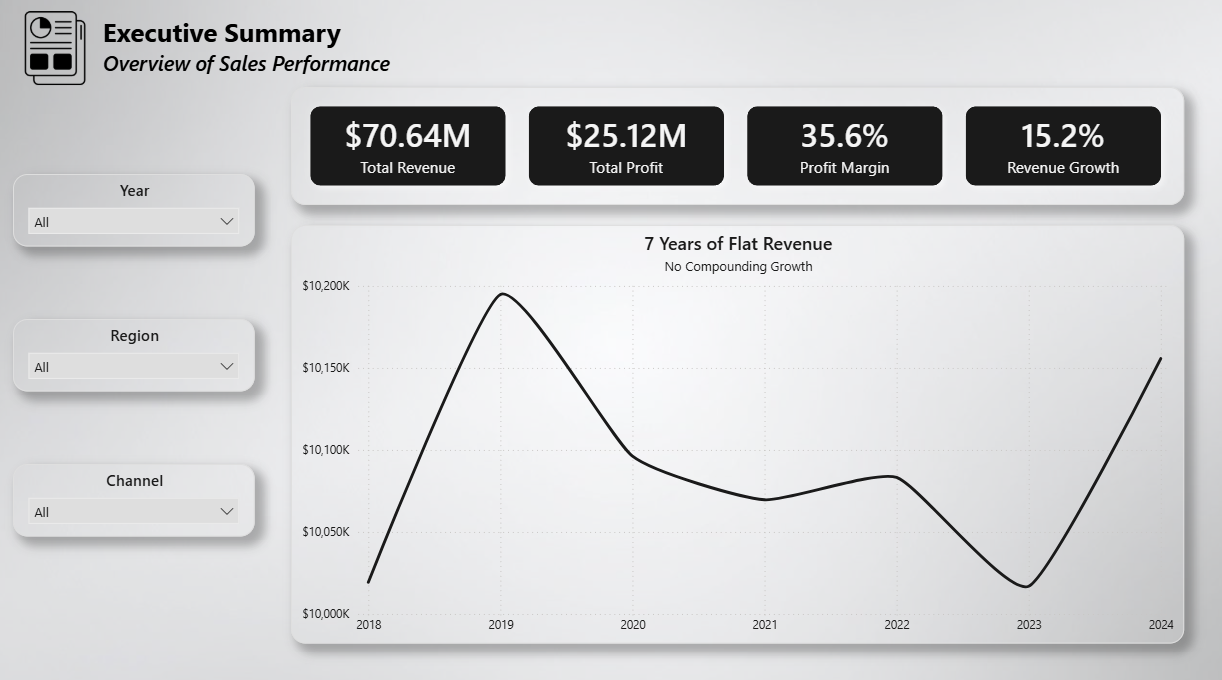

The page's visual inventory and layout, read from the dashboard file:
{"tool":"powerbi","page":{"name":"Executive Summary","canvas":[1280,720],"ordinal":0},"visuals":[{"type":"cardVisual","fields":{"Data":[" Measures.Total Sales"," Measures.Total Profit"," Measures.Profit Margin %"," Measures.Sales YoY %"]},"box":[302.9,89.7,923.8,122.3],"z":0},{"type":"lineChart","title":"7 Years of Flat Revenue","fields":{"Y":[" Measures.Total Sales"],"Category":["dimdate.Year","dimdate.Month"]},"box":[302.9,232.3,923.8,433.4],"z":1000},{"type":"slicer","title":"Region","fields":{"Values":["dimgeography.Region"]},"box":[15,330,250,74.7],"z":2000},{"type":"slicer","title":"Year","fields":{"Values":["dimdate.Year"]},"box":[15,180,250,74.7],"z":3000},{"type":"slicer","title":"Channel","fields":{"Values":["factsales.Channel"]},"box":[15,480,250,74.7],"z":4000},{"type":"textbox","box":[103.2,9.5,322,80.2],"z":5000},{"type":"image","box":[15.1,10.1,87.3,79],"z":6000}]}

Visuals, with their boxes in screenshot pixels (x1, y1, x2, y2), scaled from the page's 1280x720 canvas onto the 1222x680 screenshot:
cardVisual -  Measures.Total Sales x  Measures.Total Profit: 289/85/1171/200
"7 Years of Flat Revenue" lineChart: 289/219/1171/629
"Region" slicer: 14/312/253/382
"Year" slicer: 14/170/253/241
"Channel" slicer: 14/453/253/524
textbox: 99/9/406/85
image: 14/10/98/84
